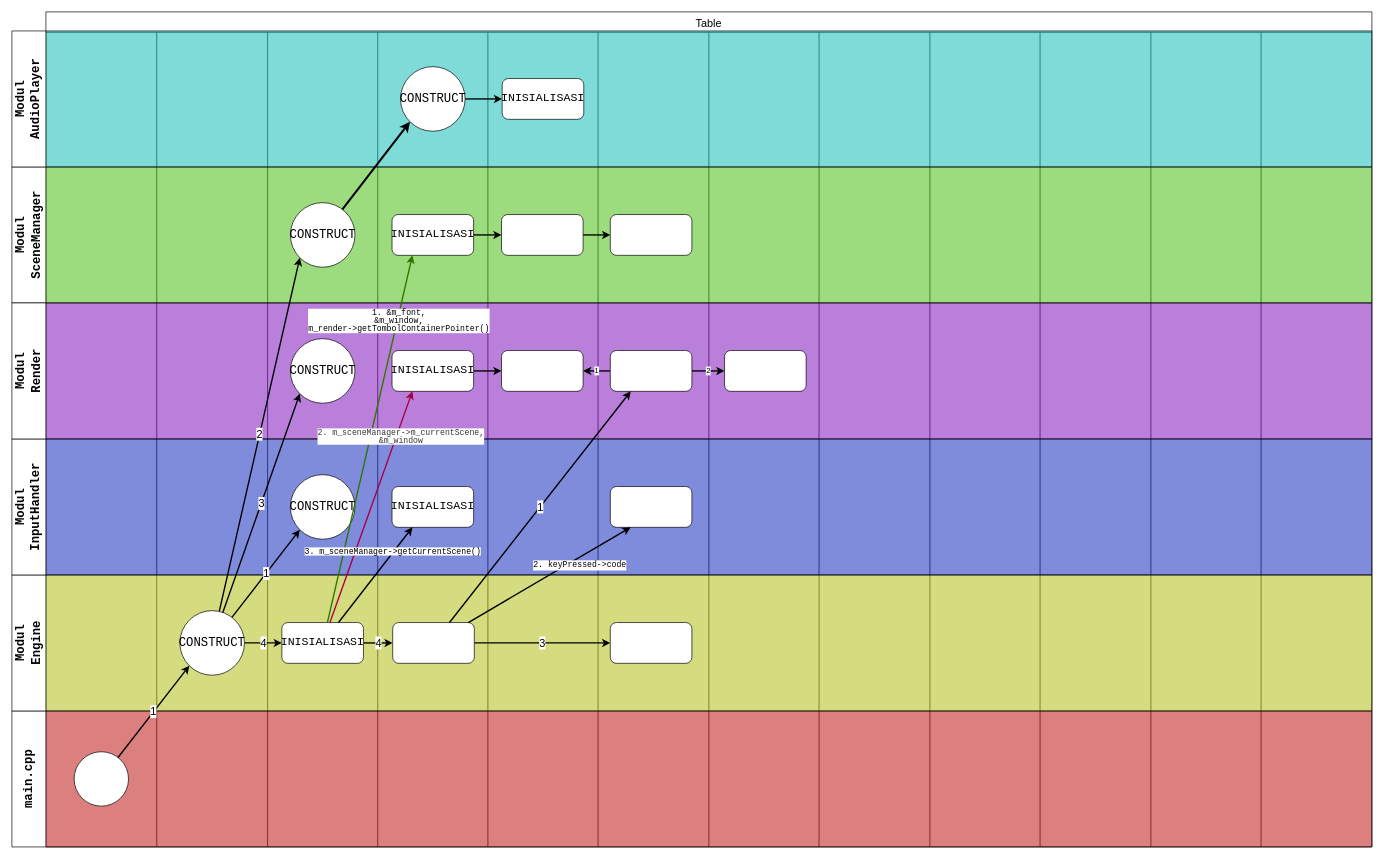
Some shapes in this 1384 by 859 pixel diagram are drawn without their labels. Each missing label, with the centre of its shape:
"CHANGE_SCENE (SceneName::startScene)" goes at (542,234).
"GAMELOOP" goes at (433,642).
"GENERATE_SCENE (SceneName targetScene)" goes at (651,234).
"HANDLE_KEY" goes at (651,506).
"m_window->draw (*komponen)" goes at (765,370).
"SETUP" goes at (542,370).
"START" goes at (101,778).
"VISUALISASI" goes at (651,370).
"WINDOW. DISPLAY()" goes at (651,642).
